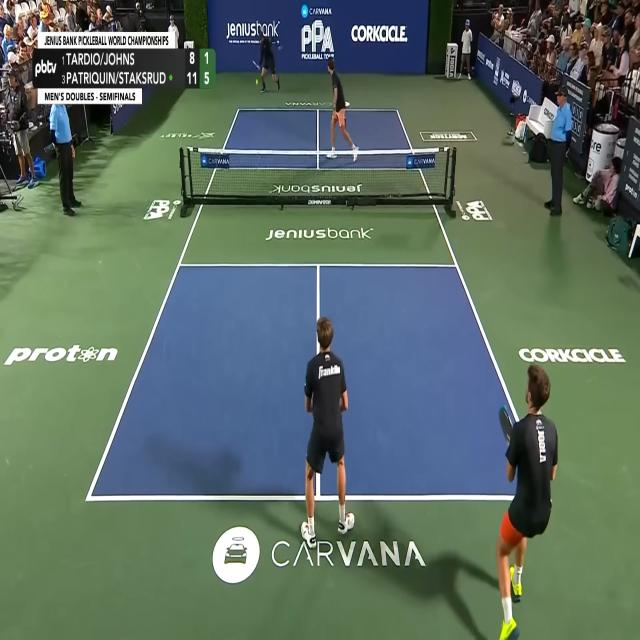ball: (255, 78, 259, 86)
